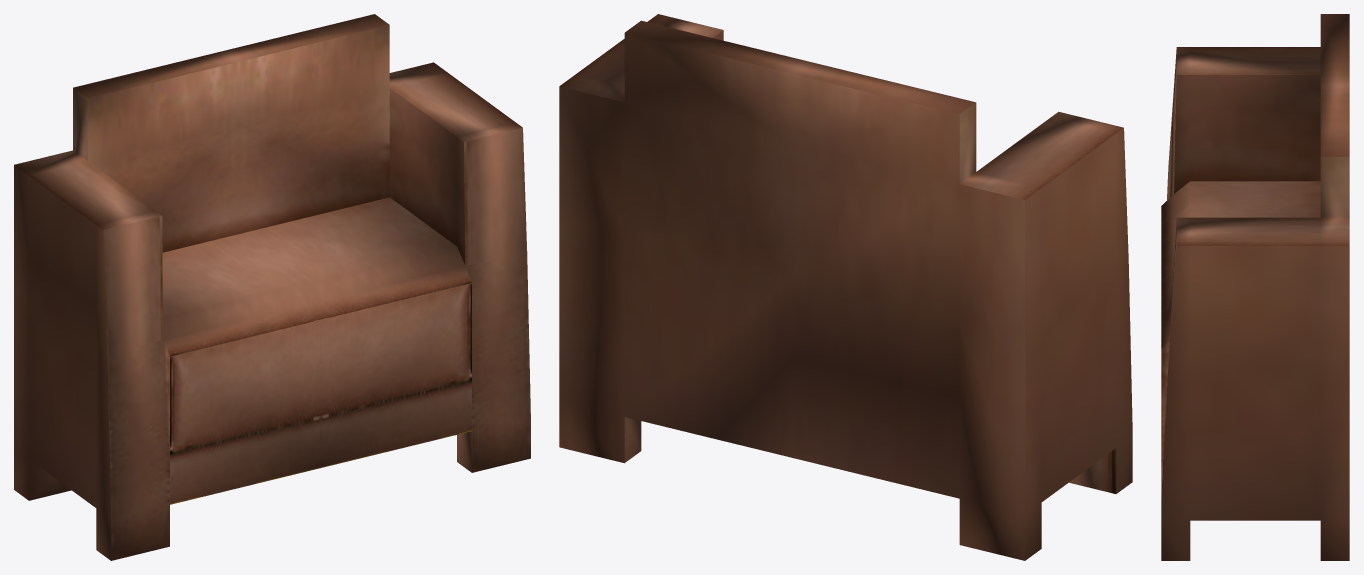
Rendered from Couch_2.fbx_Scene.fbx.
3 renders of one model, left to right at view 1: azimuth 30°, elevation 25°; view 2: azimuth 150°, elevation 25°; view 3: azimuth 270°, elevation 25°, orthographic. The views are drawn at different scales.
Visible parts, largest first — view 1: Couch_2; view 2: Couch_2; view 3: Couch_2.
Boxes of the visible parts, x1=… form: Couch_2: x1=14, y1=14, x2=530, y2=560; Couch_2: x1=559, y1=14, x2=1132, y2=560; Couch_2: x1=1161, y1=14, x2=1349, y2=560.
Size of the model in its own units: 146 by 129 by 58.32.
1 material, 1 textured.
